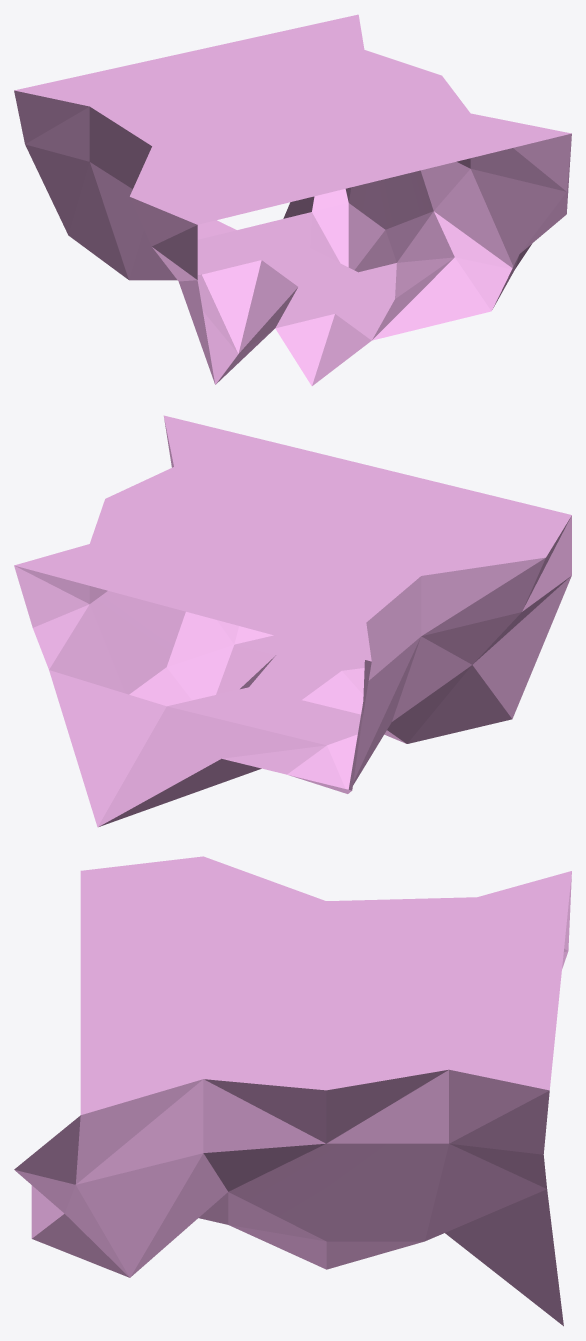
3 views of the same model, one above another, from view 1: azimuth 30°, elevation 25°; view 2: azimuth 150°, elevation 25°; view 3: azimuth 270°, elevation 25° (orthographic). The views are drawn at different scales.
Parts seen in each view (by area): view 1: Object43; view 2: Object43; view 3: Object43.
Part boxes in pixels (x1,y1,x2,y2): Object43: (14,14,571,385); Object43: (14,415,571,827); Object43: (14,856,571,1326).
Bounding box in the file's own units: 501 × 261 × 456.
